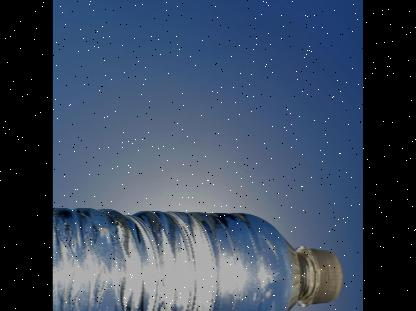Plastic Bottle: (52, 206, 343, 311)
